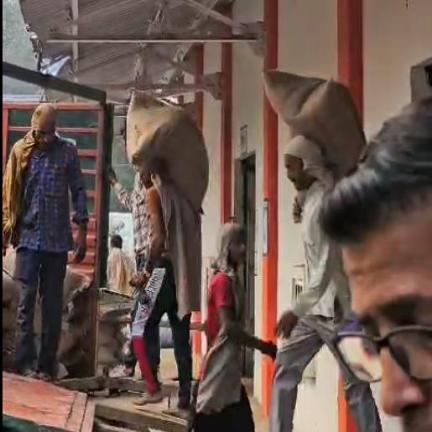Zone-Counting: (264, 70, 381, 431), (128, 97, 208, 408)
